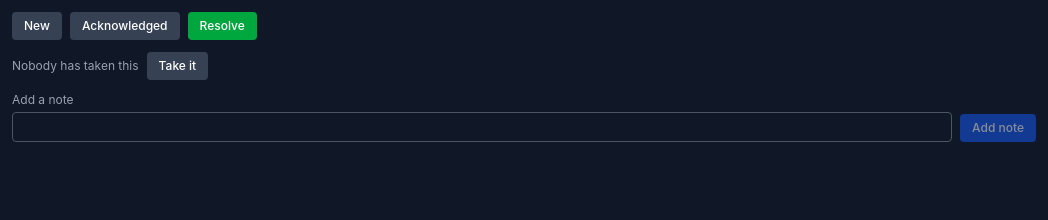
IncidentActions — resolving needs an answer › will not resolve until a cause is chosen
The image size is (1048, 220).
Click the button "Resolve": (222, 26) [188,12,257,40]
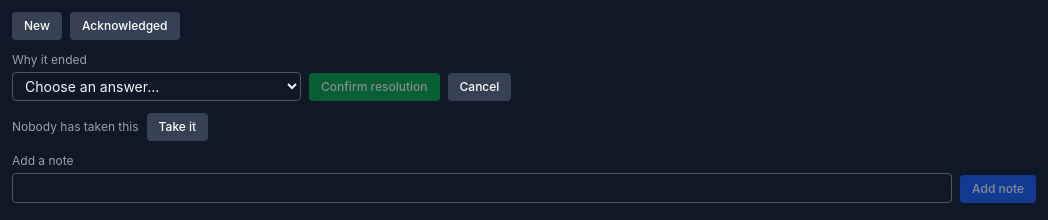
Check: the button "Confirm resolution" is disabled, box [309,73,440,101]
